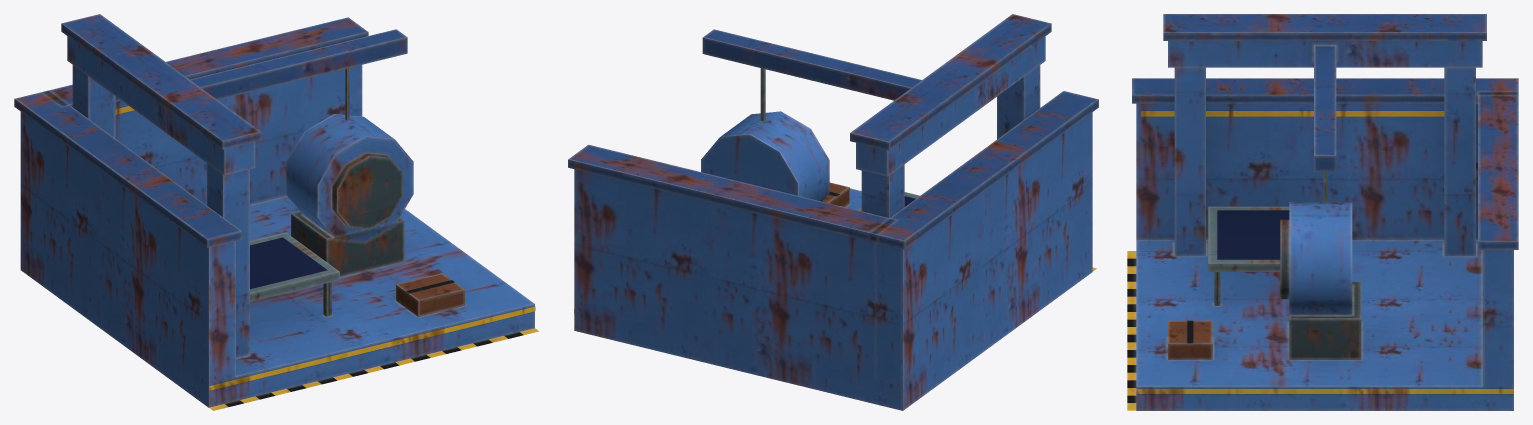
Rendered from factory.glb.
The picture shows the model from 3 angles, left to right: view 1: azimuth 30°, elevation 25°; view 2: azimuth 150°, elevation 25°; view 3: azimuth 270°, elevation 25°; orthographic projection.
Visible parts, largest first — view 1: te_factory; view 2: te_factory; view 3: te_factory.
Boxes of the visible parts, left/top/right/bottom form: te_factory: left=14, top=14, right=538, bottom=410; te_factory: left=568, top=14, right=1098, bottom=410; te_factory: left=1127, top=14, right=1518, bottom=410.
Size of the model in its own units: 0.86 by 0.615 by 0.87.
Materials: 1 (1 with a texture image).
